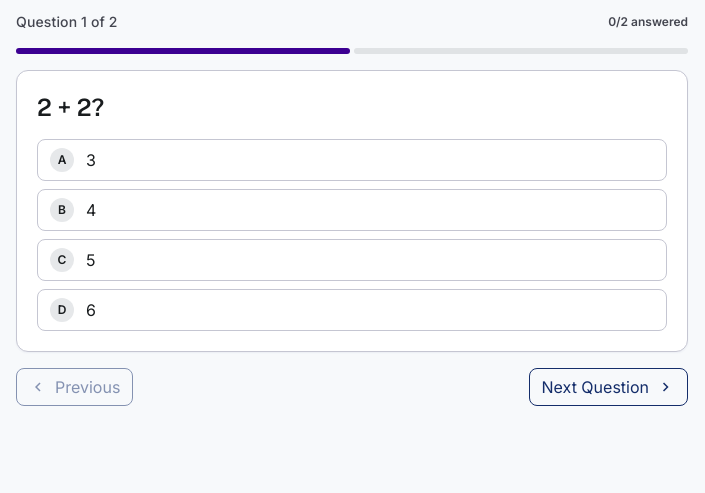
Test case: QuizViewer › requires every question answered before Submit, then shows results
Expected: the text "Question 1 of 2" is shown, [16,12,118,32]
Click the button with test id "btn-qz1-1" at (62, 210), box [37,189,667,231]
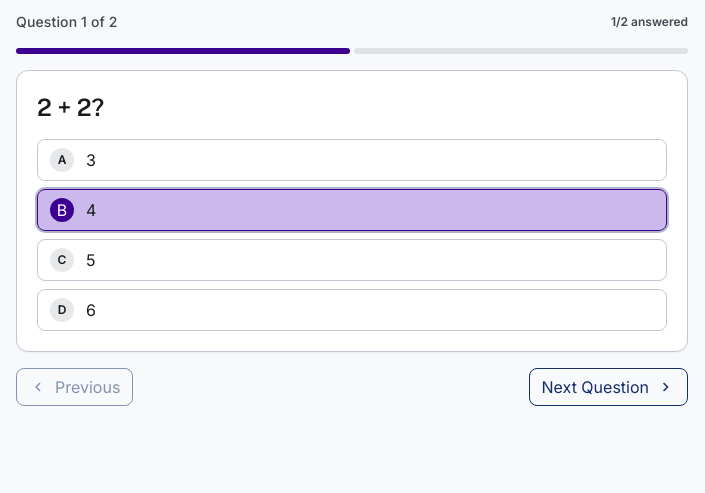
Expected: the button with test id "btn-qz1-1" is pressed, [37,189,667,231]
Click the button with test id "btn-qz3" at (608, 387), box [529,368,688,406]
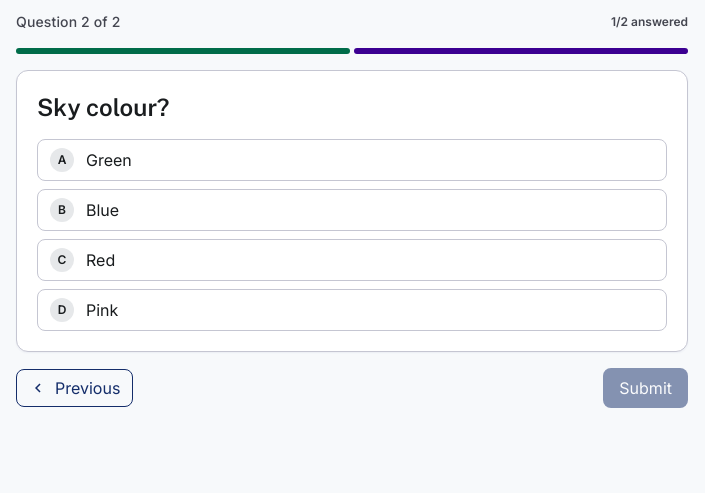
Expected: the text "Question 2 of 2" is shown, [16,12,120,32]
Expected: the button with test id "btn-qz4" is disabled, [603,368,688,408]
Click the button with test id "btn-qz1-0" at (109, 160), box [37,139,667,181]
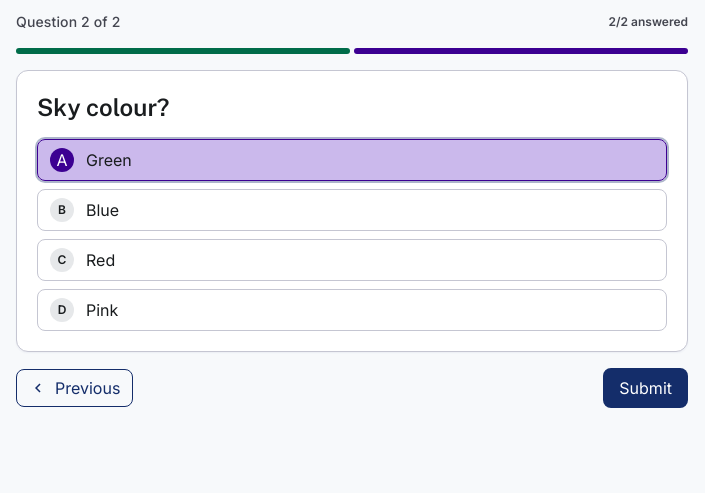
Click the button with test id "btn-qz4" at (646, 388), box [603,368,688,408]
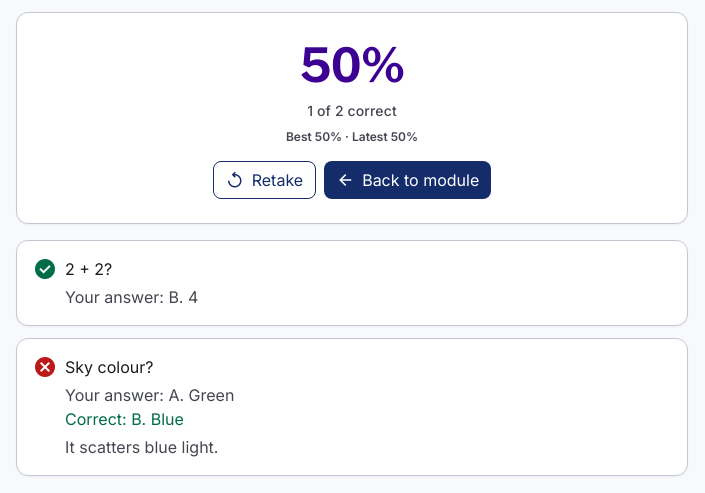
Expected: the text with test id "quiz-score" reads "50%", [299,37,405,93]
Expected: the text "1 of 2 correct" is shown, [307,101,397,121]
Expected: the text "It scatters blue light." is shown, [65,437,218,457]
